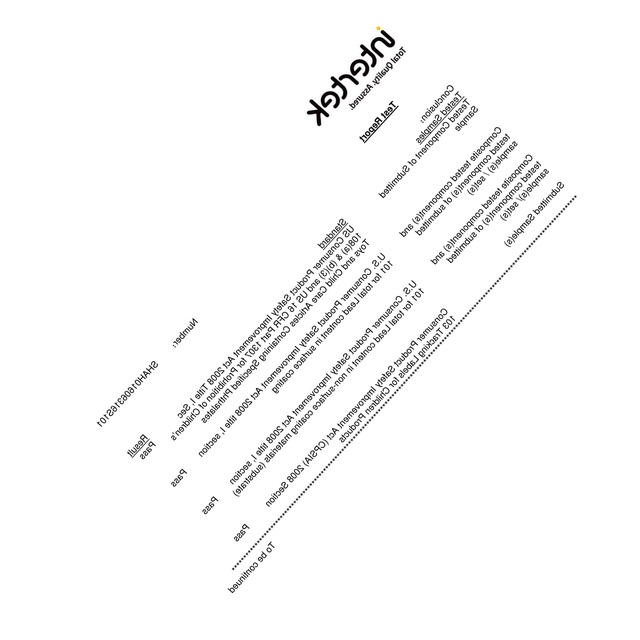intertek: (304, 21, 400, 128)
